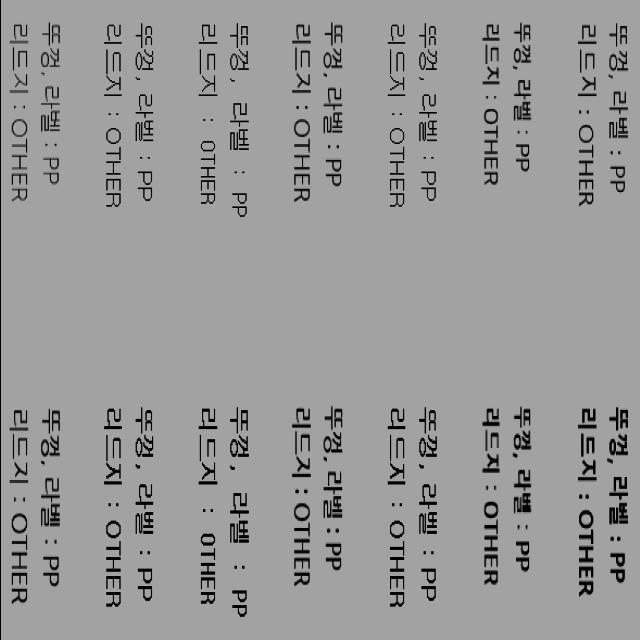bold: (0, 395, 68, 619), (568, 394, 636, 612), (190, 402, 256, 624), (383, 400, 447, 620), (106, 395, 166, 613), (287, 397, 352, 593), (479, 400, 541, 592)
normal: (0, 17, 70, 212), (194, 15, 258, 226), (568, 15, 634, 215), (99, 17, 163, 219), (289, 13, 353, 209), (384, 18, 446, 216), (479, 18, 538, 196)
